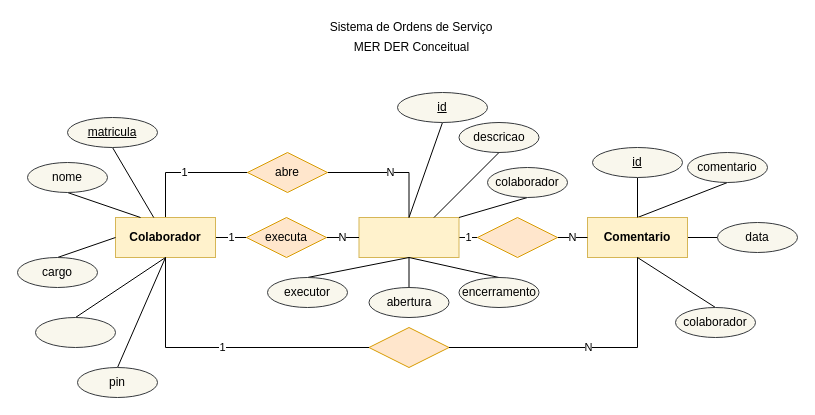
Some shapes in this 815 by 415 pixel diagram are drawn without their labels. The box of each missing label's shape, as (x1, y1, x2, y2) in pixels:
faz: (368, 326, 449, 368)
O.S.: (358, 216, 459, 258)
possui: (476, 216, 558, 258)
setor: (34, 316, 116, 348)
